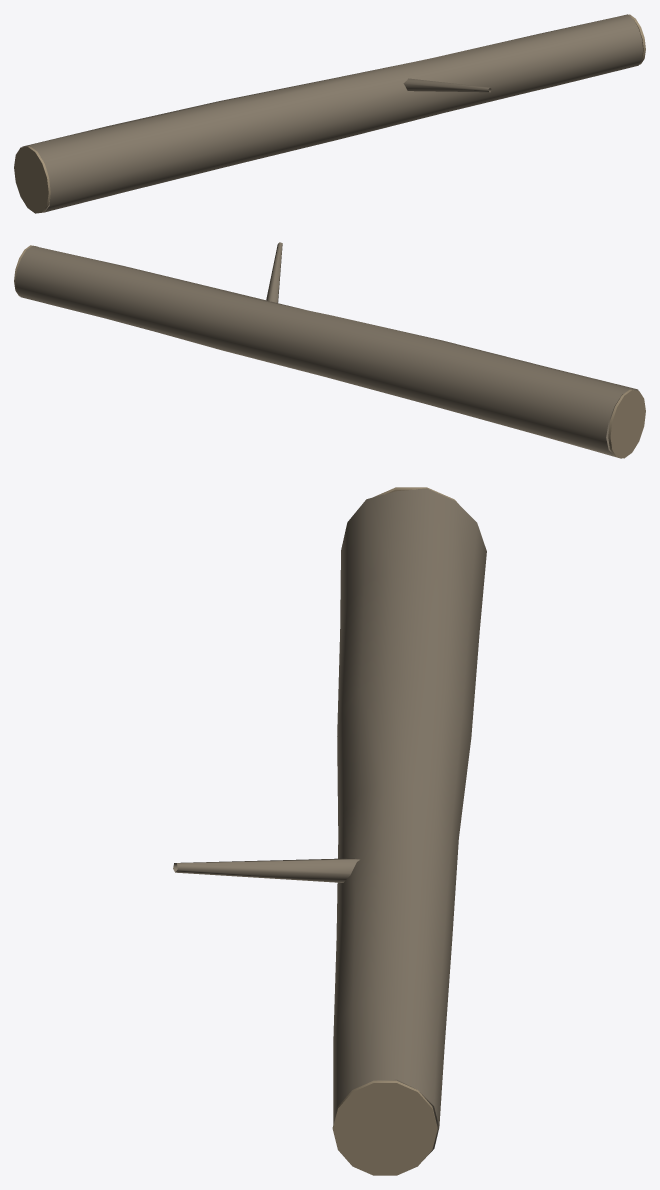
The model's file is log.glb.
The picture shows the model from 3 angles, top to bottom: view 1: azimuth 30°, elevation 25°; view 2: azimuth 150°, elevation 25°; view 3: azimuth 270°, elevation 25°; orthographic projection. The views are drawn at different scales.
Parts seen in each view (by area): view 1: log; view 2: log; view 3: log.
Boxes of the visible parts, x1=… form: log: x1=14, y1=14, x2=645, y2=213; log: x1=14, y1=242, x2=645, y2=458; log: x1=173, y1=487, x2=486, y2=1175.
Size of the model in its own units: 5.24 by 0.5839 by 1.2.
